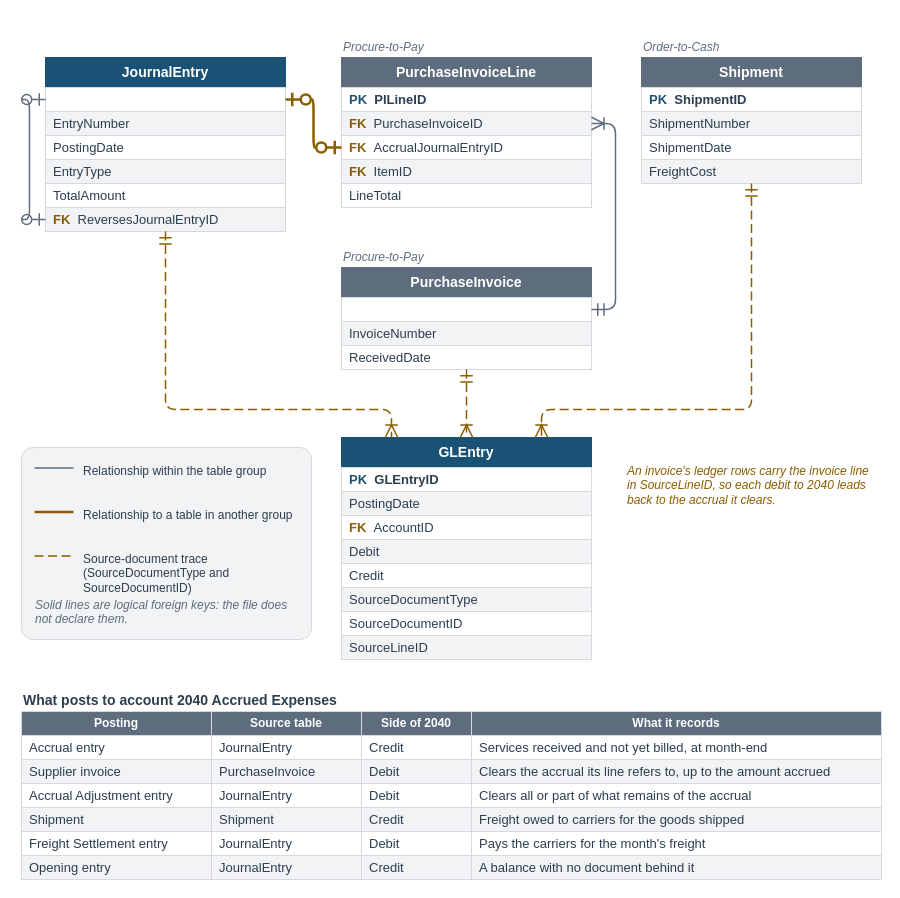
Some shapes in this 900 by 898 pixel diagram are drawn without their labels. The centre of each missing label's shape, as x and y in pixels:
PK JournalEntryID: point (165, 99)
PK PurchaseInvoiceID: point (466, 309)
